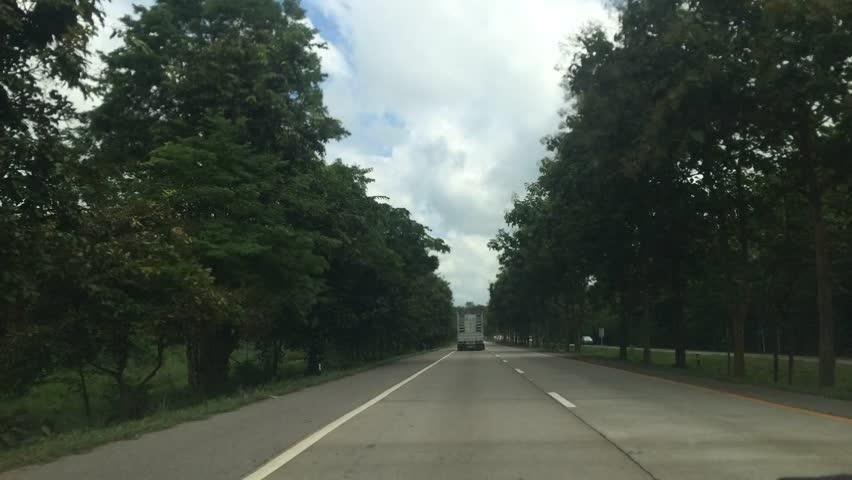bus: (455, 308, 488, 352)
car: (578, 335, 594, 346)
